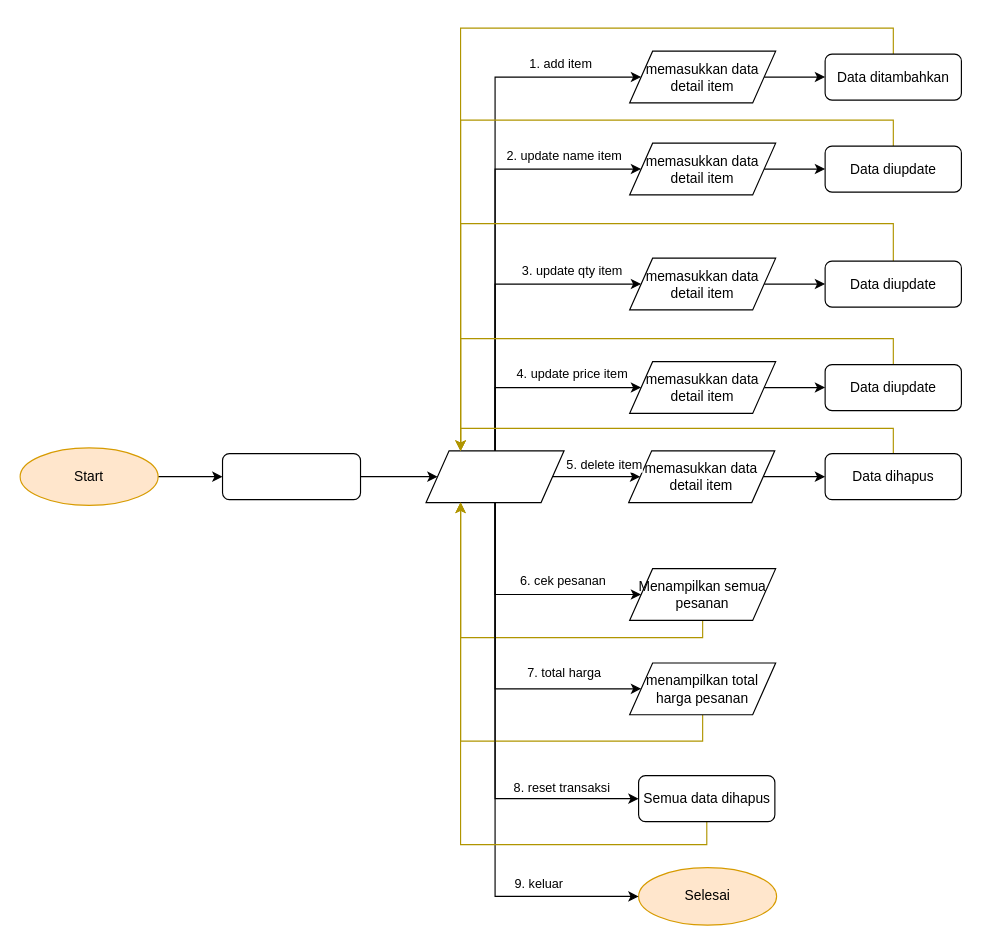
Image size: 982x945. Some labels were removed from this diagram. Here are the shapes that lost their labels. From the top down, the centre of each, then its label:
At [291,476]: "New Transaction() Instance".
At [494,476]: "Pilih Menu: 1-9".
